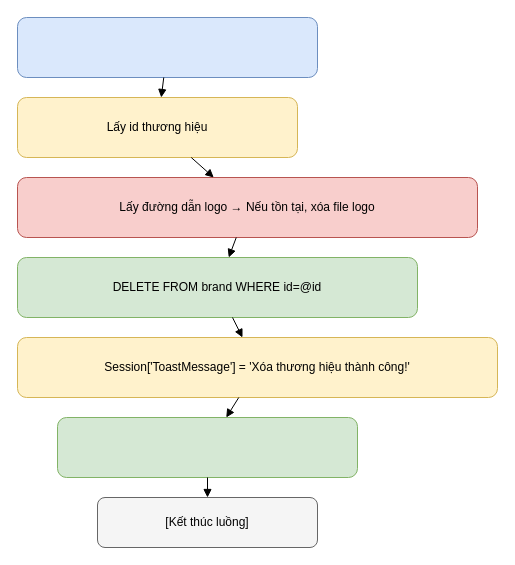
The diagram is 515 pixels wide and 565 high, and some of its shapes have lost their labels. The shapes that lost their labels are listed below. From the top down, each one's box as (x1, y1, x2, y2) in pixels, then its label:
(16, 16, 318, 78): [Admin nhấn 'Xóa']
(56, 416, 358, 478): Chuyển về Brand.aspx
